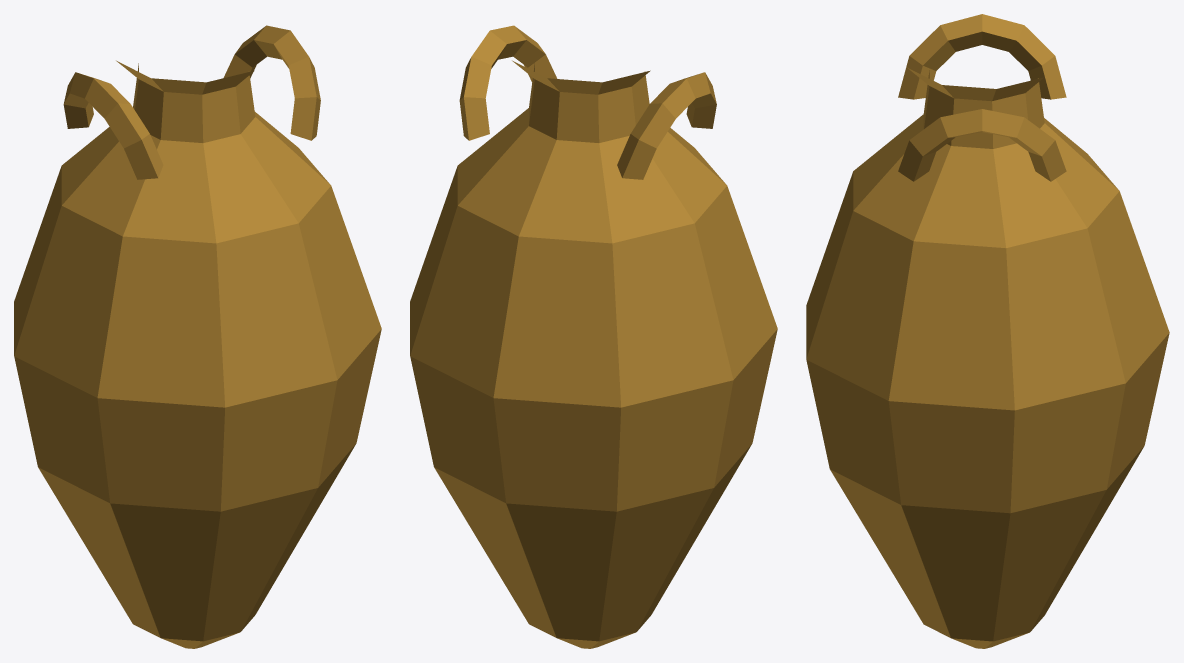
Rendered from amphora_ochre.glb.
The picture shows the model from 3 angles, left to right: view 1: azimuth 30°, elevation 25°; view 2: azimuth 150°, elevation 25°; view 3: azimuth 270°, elevation 25°; orthographic projection.
Parts seen in each view (by area): view 1: amphora_ochre; view 2: amphora_ochre; view 3: amphora_ochre.
Boxes of the visible parts, bbox=[...] form: amphora_ochre: bbox=[14, 25, 381, 648]; amphora_ochre: bbox=[410, 25, 777, 648]; amphora_ochre: bbox=[806, 14, 1169, 648].
Size of the model in its own units: 0.8272 by 1.46 by 0.8147.
